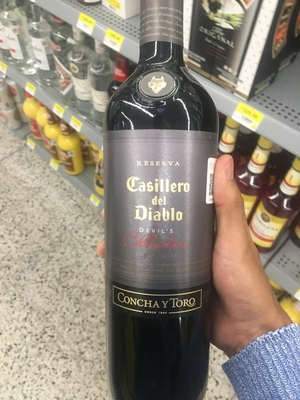casillero del diablo devils collection rojo: (105, 18, 215, 400)
